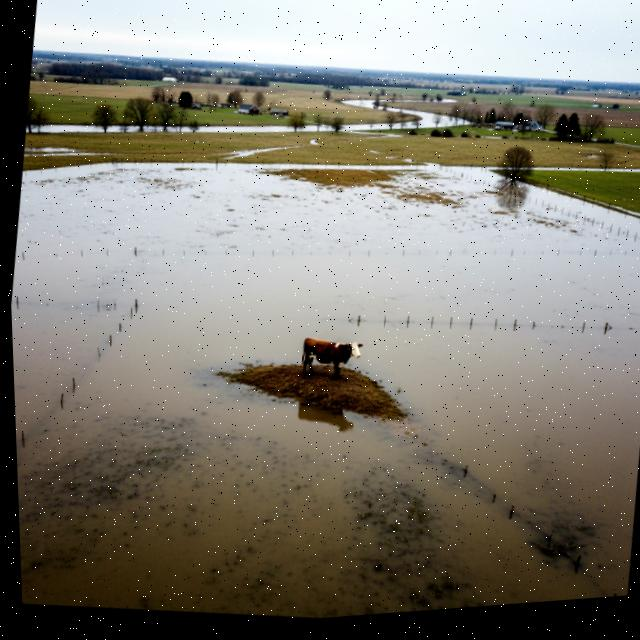cow: (290, 321, 374, 394)
